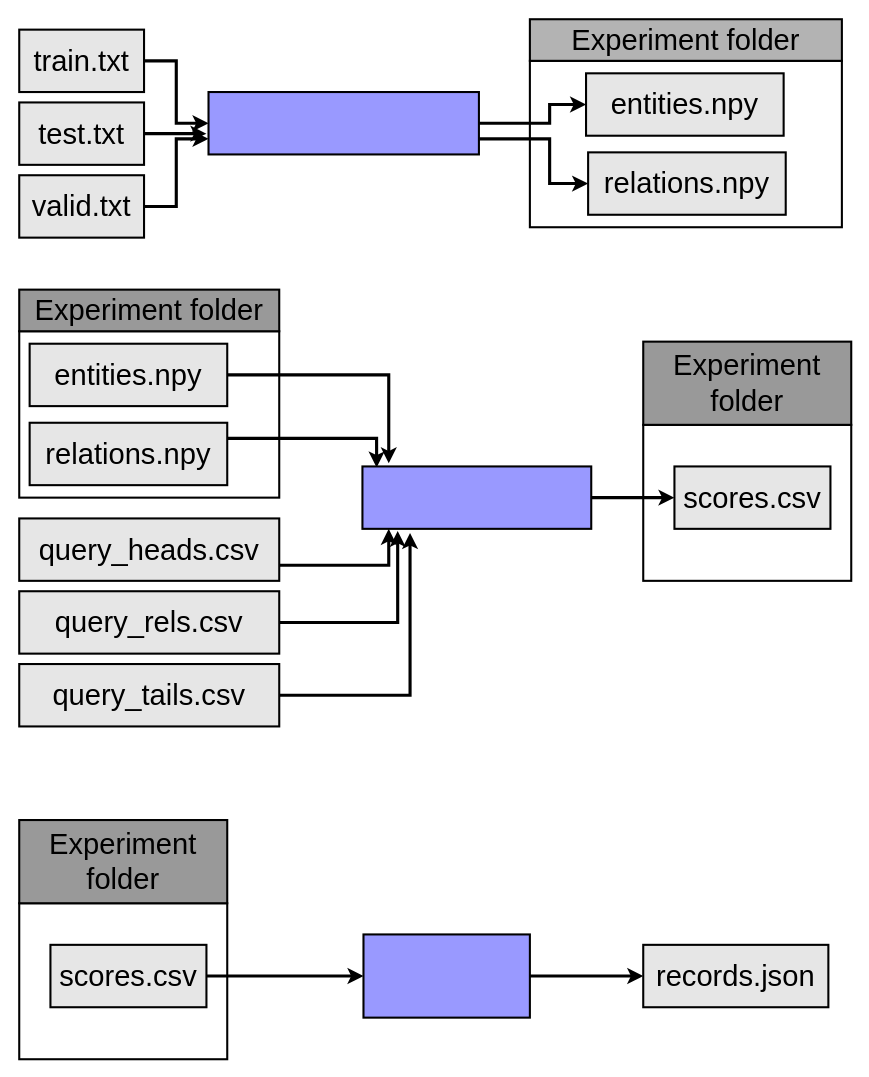
Some shapes in this 869 by 1077 pixel diagram are drawn without their labels. Here are the shapes that lost their labels. From the top down, the centre of each, then its label:
point 343,122: make_embedding
point 476,497: make_query
point 446,975: compute hits
